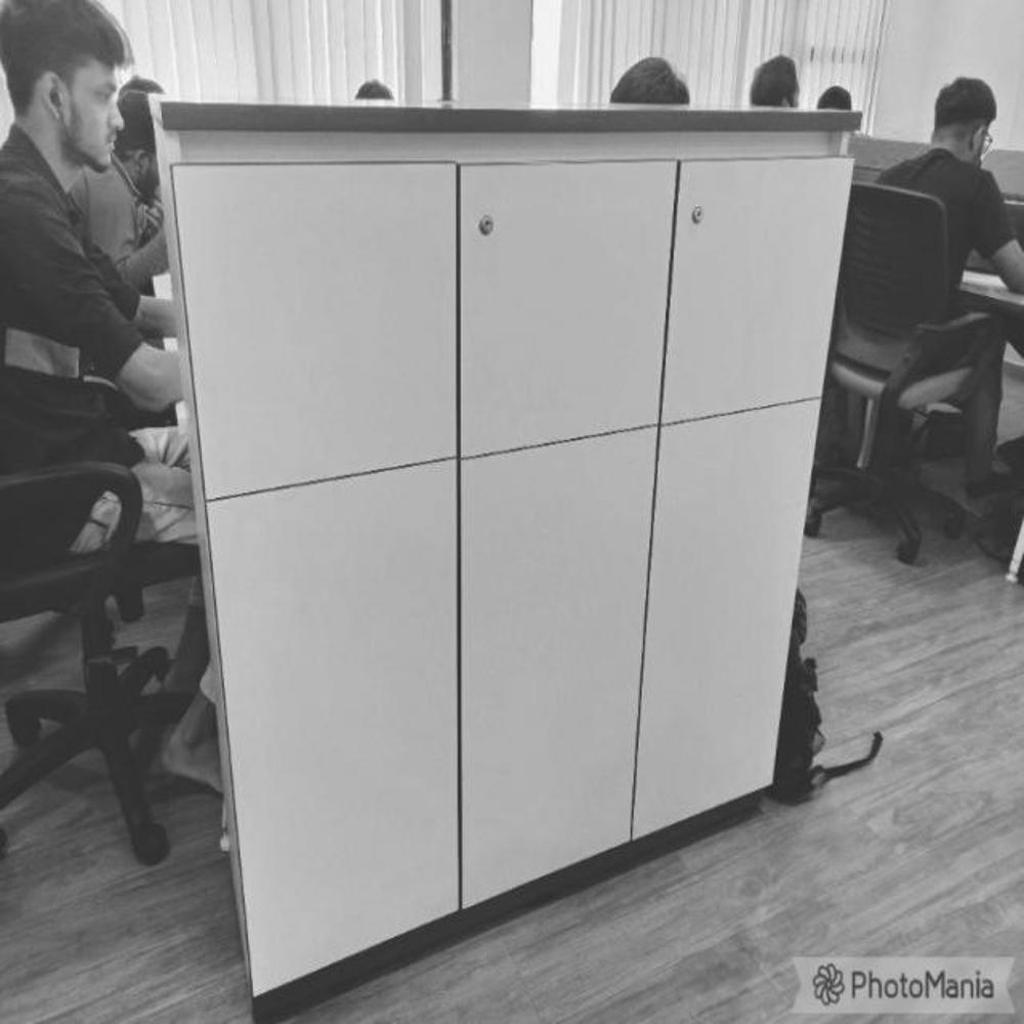cabinet: (138, 83, 872, 1007)
